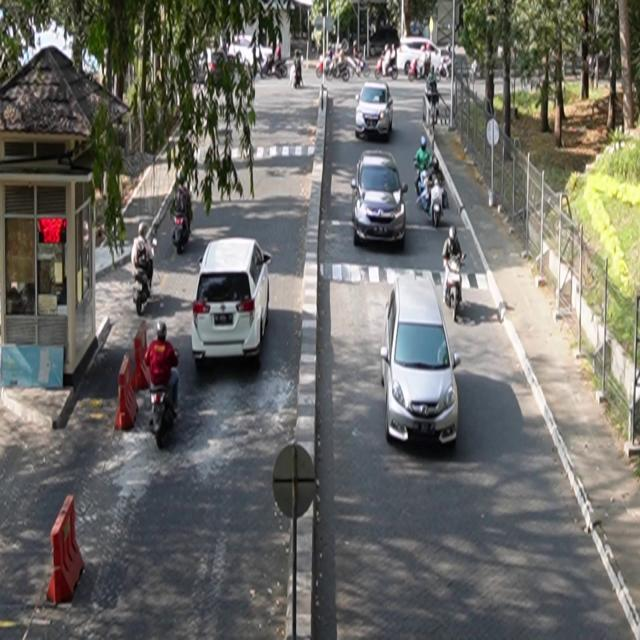car: (381, 270, 462, 447), (192, 238, 273, 370), (352, 150, 409, 248), (356, 82, 394, 142)
